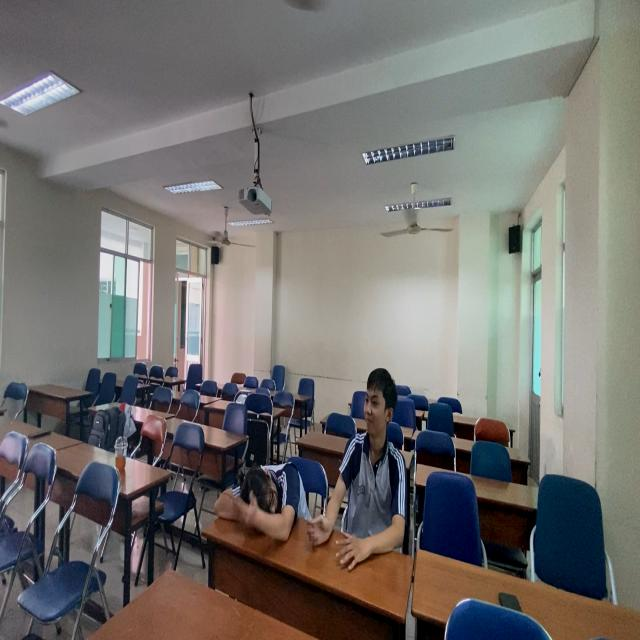sleep: (215, 452, 316, 547)
